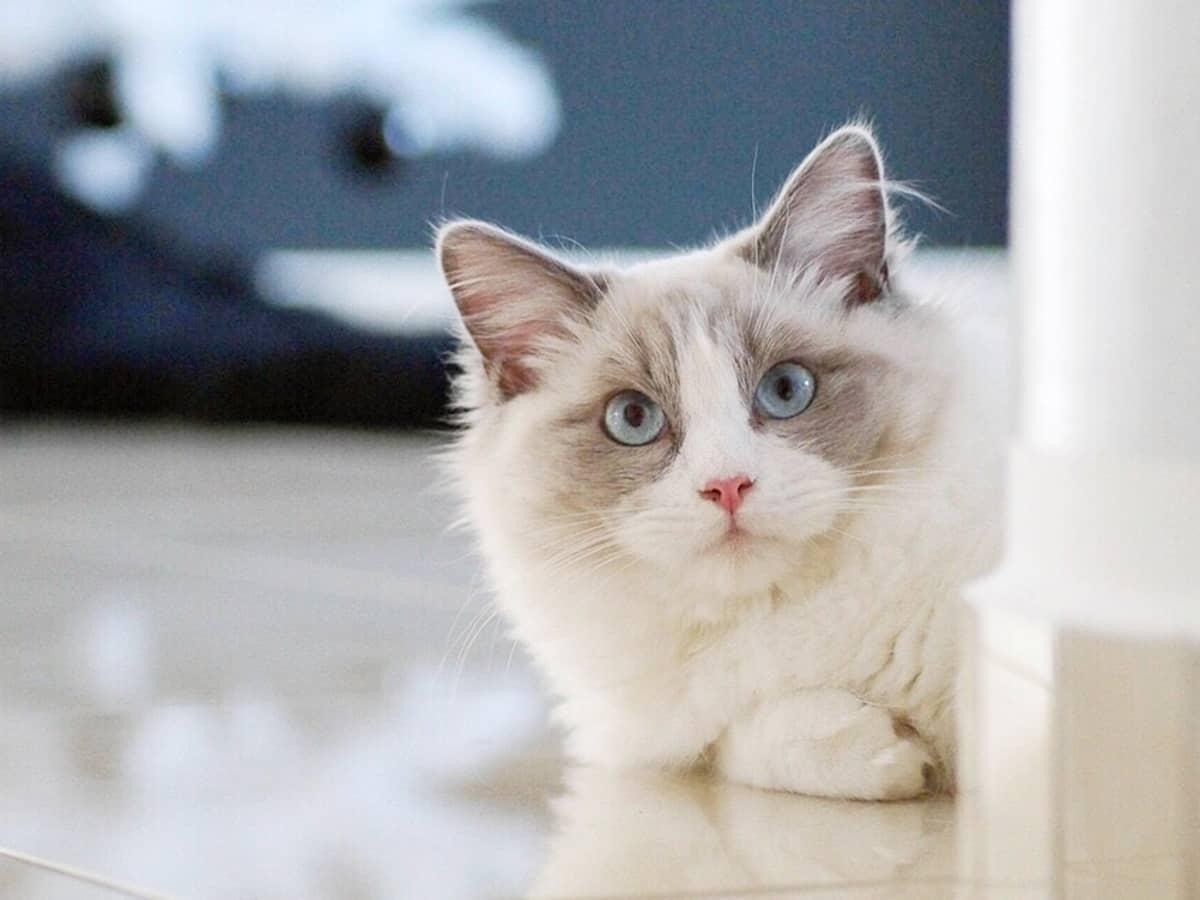ragdoll: (427, 117, 908, 595)
